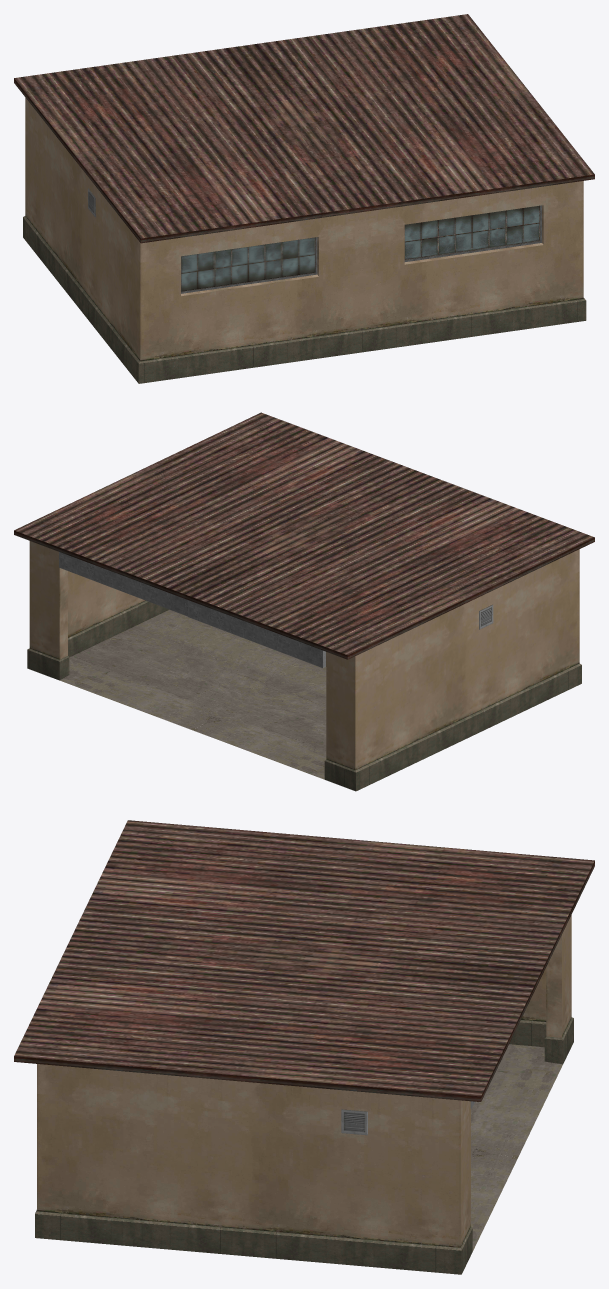
File: Garage special.fbx
3 renders of one model, top to bottom at view 1: azimuth 30°, elevation 25°; view 2: azimuth 150°, elevation 25°; view 3: azimuth 270°, elevation 25°, orthographic. The views are drawn at different scales.
Visible parts, largest first — view 1: Car_Garage; view 2: Car_Garage, Column_A_3m_1, Column_A_3m; view 3: Car_Garage.
Boxes of the visible parts, box(x1,y1,x2,y2) form: Car_Garage: box(14, 14, 594, 383); Car_Garage: box(14, 412, 594, 791); Column_A_3m_1: box(188, 600, 325, 667); Column_A_3m: box(59, 552, 187, 616); Car_Garage: box(14, 820, 594, 1274).
Bounding box in the file's own units: 981 × 301 × 872.
